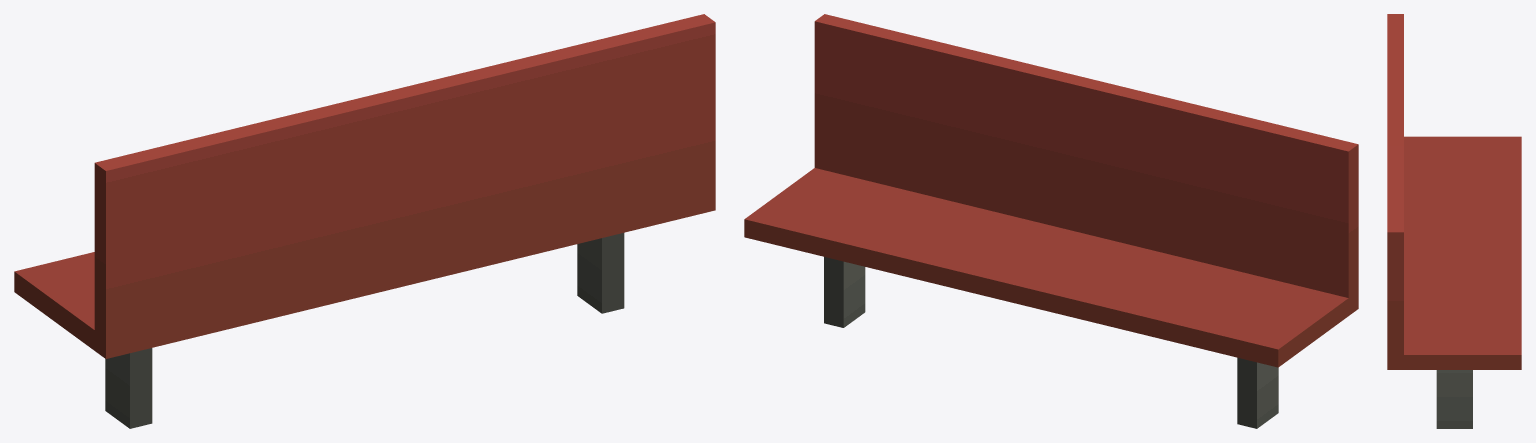
Rendered from bench.glb.
3 views of the same model, side by side, from view 1: azimuth 30°, elevation 25°; view 2: azimuth 150°, elevation 25°; view 3: azimuth 270°, elevation 25° (orthographic). The views are drawn at different scales.
Visible parts, largest first — view 1: bench; view 2: bench; view 3: bench.
Part boxes in pixels (box(x1,y1,x2,y2)): bench: box(14, 14, 715, 428); bench: box(744, 14, 1358, 428); bench: box(1387, 14, 1521, 428).
Bounding box in the file's own units: 4.07 × 1.89 × 1.06.
Materials: 1 (1 with a texture image).
